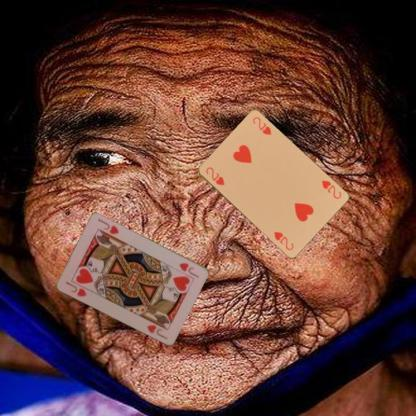2h: (202, 164, 225, 187), (319, 178, 343, 200)
Jh: (62, 278, 88, 298), (176, 260, 200, 280)
